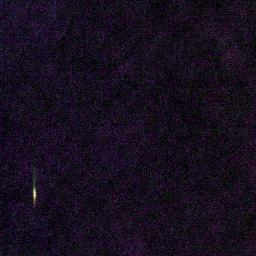Ship: (30, 186, 38, 203)
